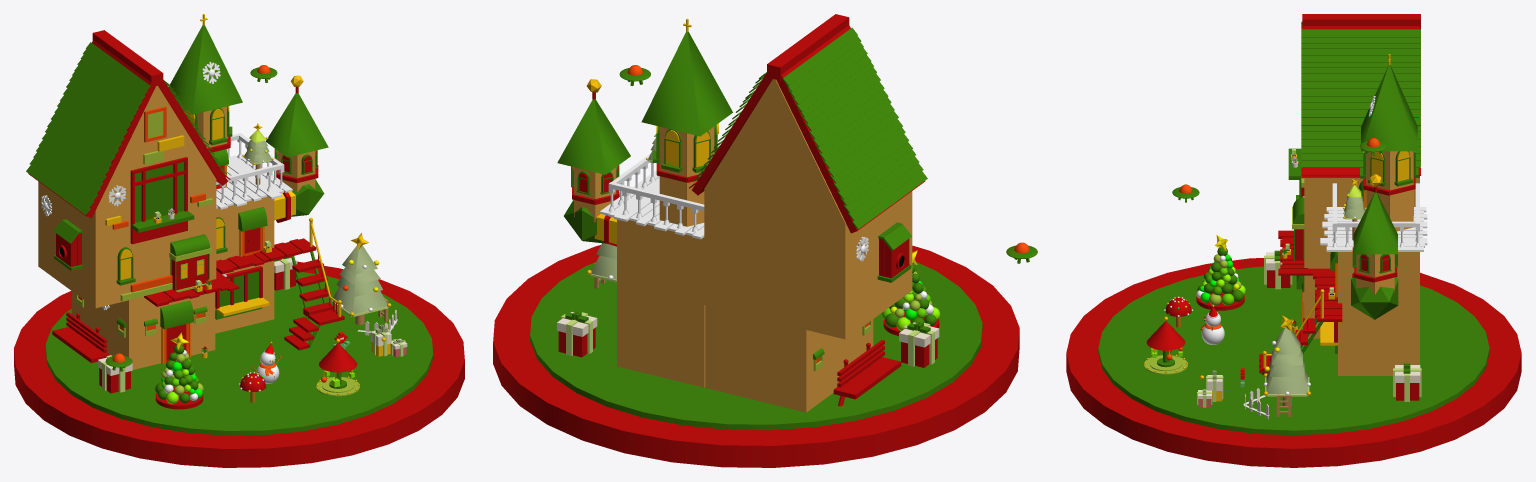
File: christmas hut.glb
3 renders of one model, left to right at view 1: azimuth 30°, elevation 25°; view 2: azimuth 150°, elevation 25°; view 3: azimuth 270°, elevation 25°, orthographic. The views are drawn at different scales.
Visible parts, largest first — view 1: cylinder (×2), box (×31), pyramid4 (×5), wedge (×2), quarterCylinder (×3), cone, icosahedron; view 2: box (×32), cylinder (×2), wedge (×2), pyramid4 (×2), icosahedron; view 3: cylinder (×2), box (×27), pyramid4 (×4), icosahedron, cone.
Part boxes in pixels (x1=…): cylinder (×2): x1=14, y1=261, x2=464, y2=467; box (×31): x1=26, y1=30, x2=274, y2=369; pyramid4 (×5): x1=168, y1=25, x2=387, y2=314; wedge (×2): x1=96, y1=86, x2=216, y2=208; quarterCylinder (×3): x1=160, y1=207, x2=267, y2=329; cone: x1=319, y1=343, x2=357, y2=372; icosahedron: x1=291, y1=179, x2=324, y2=216; box (×32): x1=574, y1=14, x2=927, y2=412; cylinder (×2): x1=493, y1=245, x2=1019, y2=467; wedge (×2): x1=704, y1=79, x2=845, y2=223; pyramid4 (×2): x1=557, y1=31, x2=732, y2=174; icosahedron: x1=564, y1=200, x2=605, y2=243; cylinder (×2): x1=1066, y1=258, x2=1521, y2=467; box (×27): x1=1301, y1=14, x2=1420, y2=375; pyramid4 (×4): x1=1266, y1=65, x2=1417, y2=394; icosahedron: x1=1351, y1=277, x2=1398, y2=319; cone: x1=1146, y1=321, x2=1185, y2=350.
Size of the model in its own units: 434 by 341 by 434.
